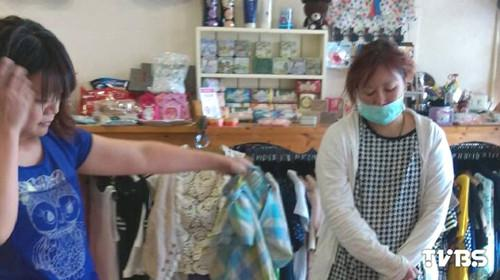NONE: (18, 85, 65, 138)
WRONG: (358, 78, 406, 126)
